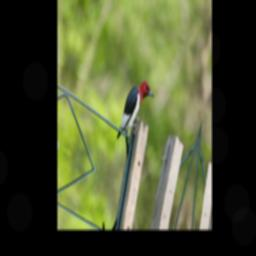Woodpecker: (116, 69, 156, 158)
